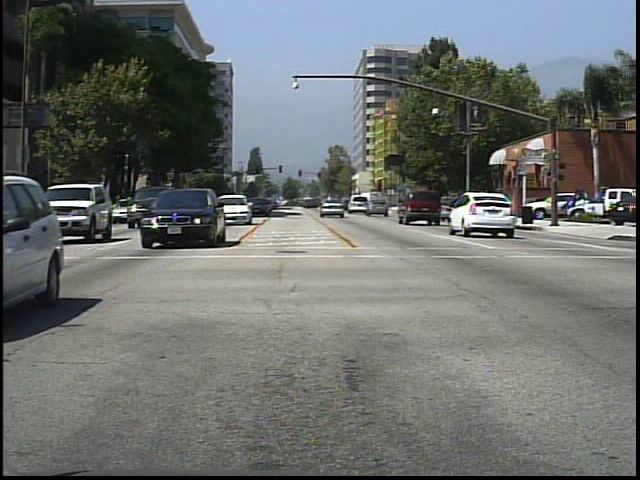person: (437, 192, 456, 224), (474, 188, 492, 218)
